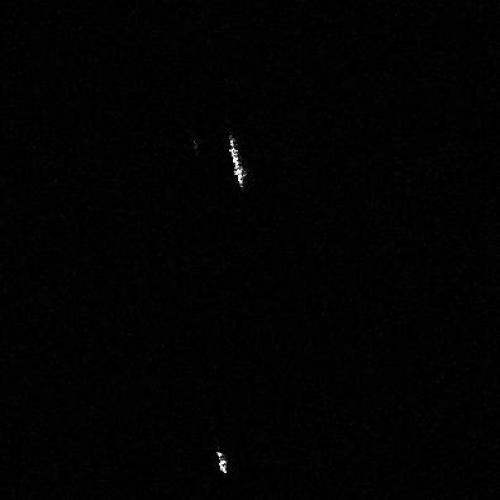ship: (225, 133, 246, 190), (215, 450, 229, 476)
